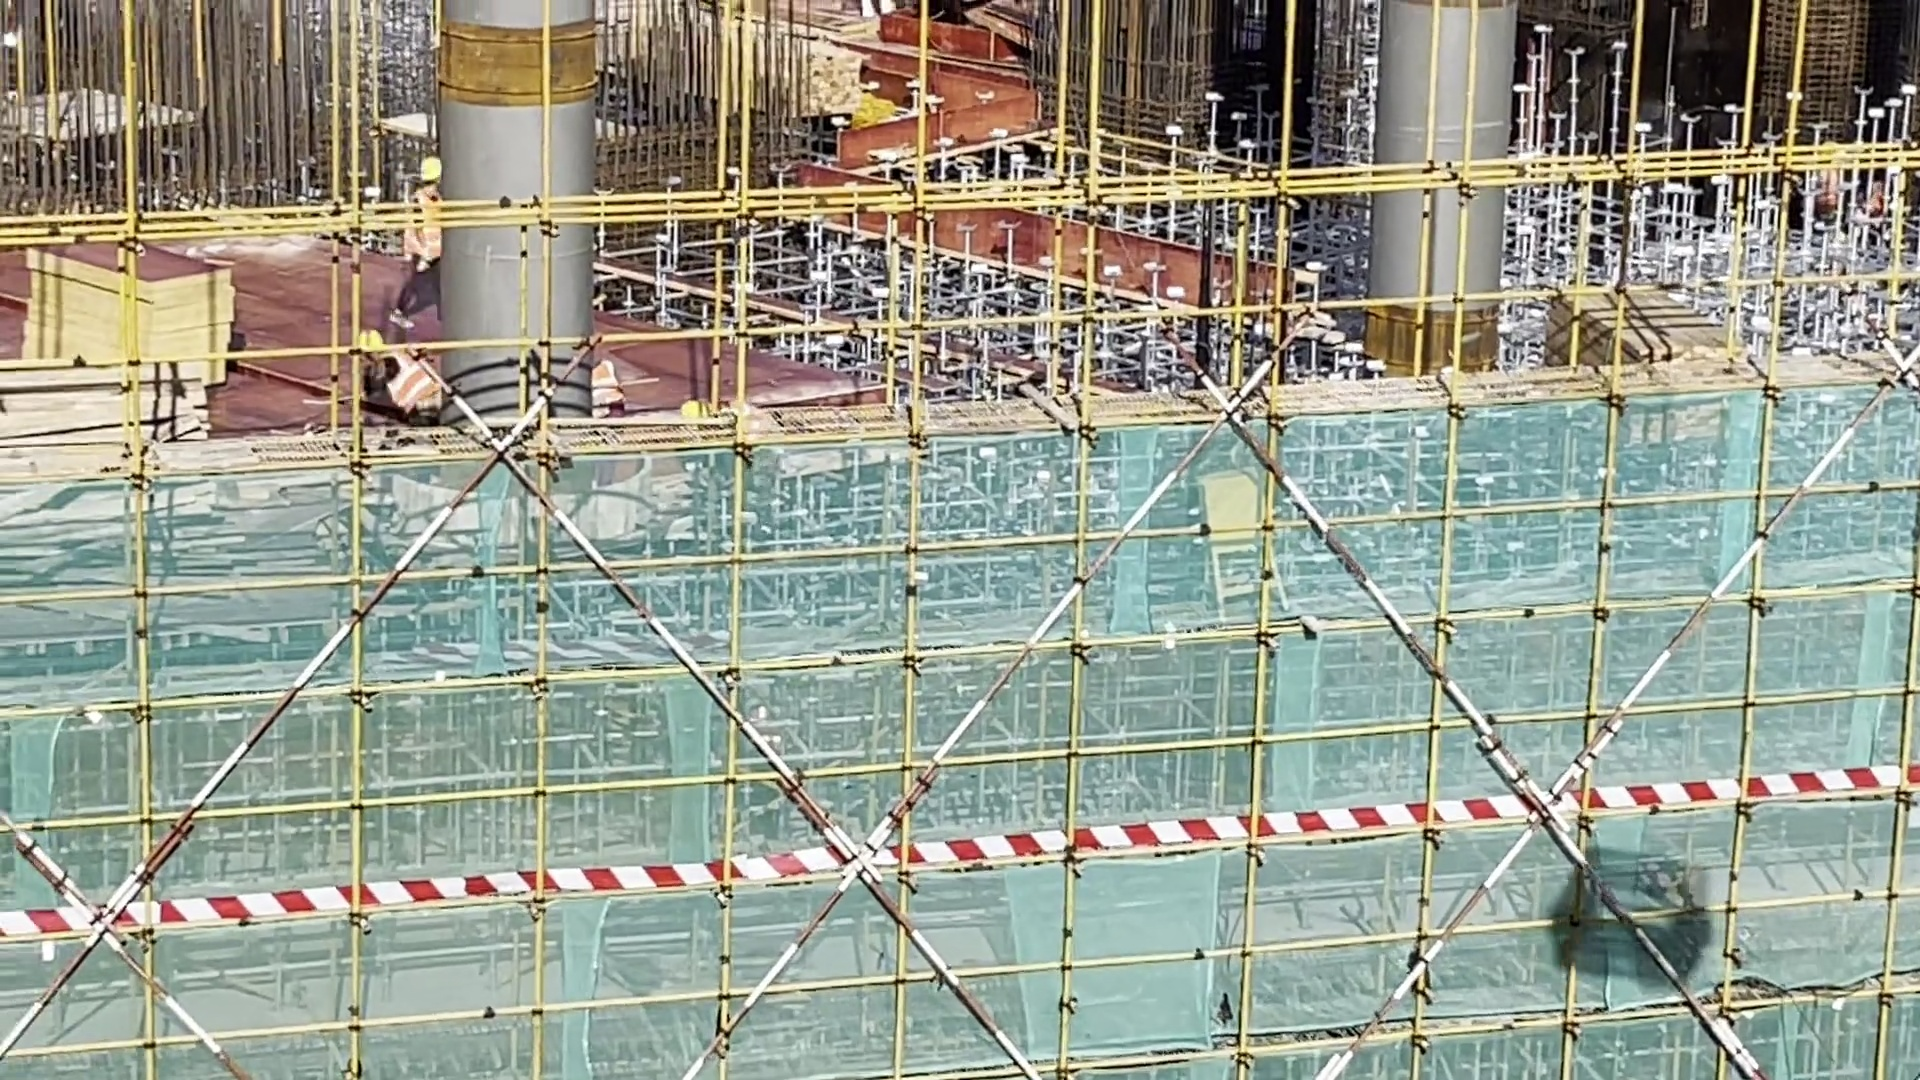board: (25, 227, 240, 422), (1541, 293, 1740, 390)
ebox: (1190, 463, 1304, 619)
helmet: (418, 157, 447, 185), (354, 331, 384, 358)
person: (381, 151, 470, 327), (347, 323, 450, 445)
vest: (380, 344, 450, 429), (407, 185, 456, 268), (593, 359, 628, 420)
wood: (1, 357, 212, 473)
